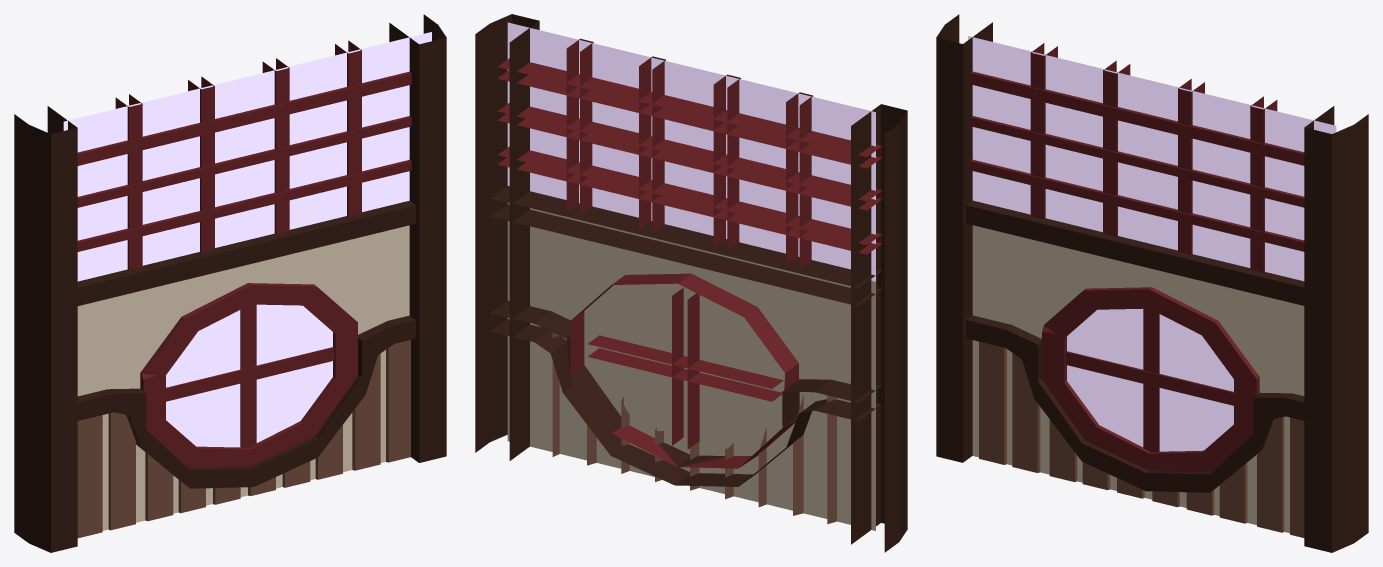
File: BuildingWall_3_2  Asia.fbx
The picture shows the model from 3 angles, left to right: view 1: azimuth 30°, elevation 25°; view 2: azimuth 150°, elevation 25°; view 3: azimuth 330°, elevation 25°; orthographic projection.
Visible parts, largest first — view 1: BuildingWall_3_2; view 2: BuildingWall_3_2; view 3: BuildingWall_3_2.
Boxes of the visible parts, x1,y1,x2,y2 form: BuildingWall_3_2: (14, 14, 446, 552); BuildingWall_3_2: (475, 14, 907, 552); BuildingWall_3_2: (936, 14, 1368, 552).
Size of the model in its own units: 2 by 1.96 by 0.254.
